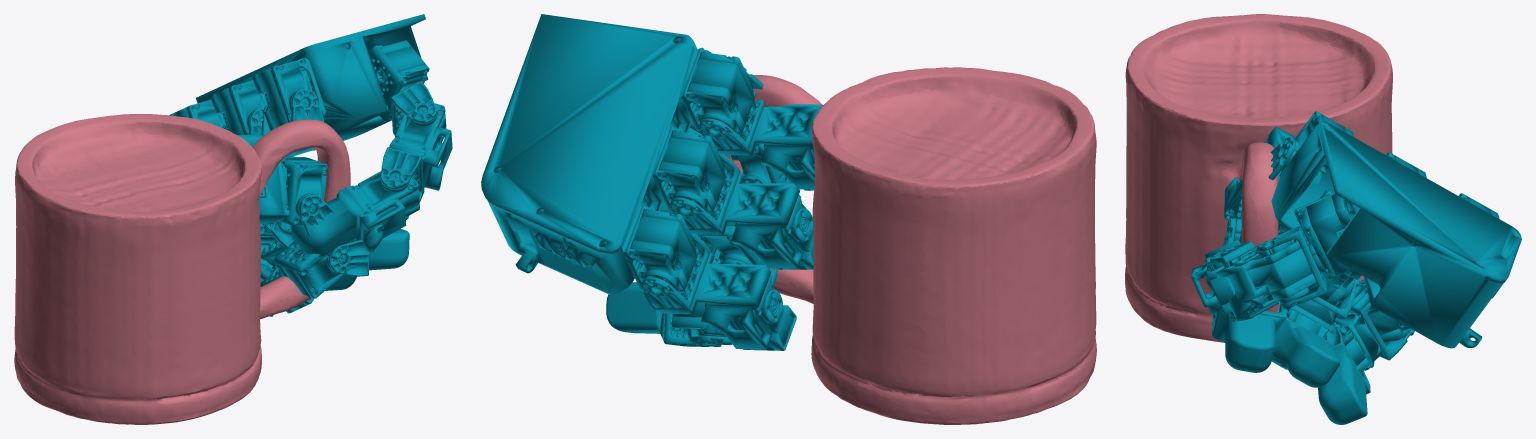
3 views of the same model, side by side, from view 1: azimuth 30°, elevation 25°; view 2: azimuth 150°, elevation 25°; view 3: azimuth 270°, elevation 25° (orthographic). The views are drawn at different scales.
Parts seen in each view (by area): view 1: world; view 2: world; view 3: world.
Boxes of the visible parts, x1=… form: world: x1=14, y1=14, x2=452, y2=424; world: x1=481, y1=14, x2=1096, y2=424; world: x1=1125, y1=14, x2=1521, y2=424.
Bounding box in the file's own units: 0.2722 × 0.1605 × 0.2007.
